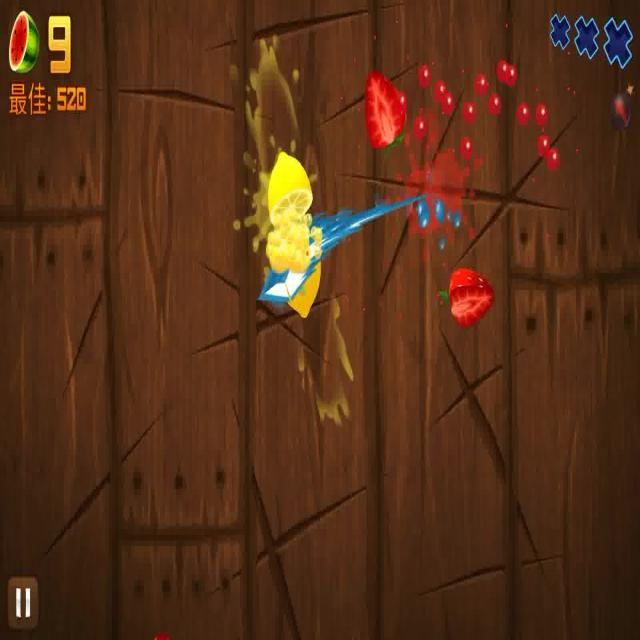fruit: (253, 240, 333, 326), (249, 146, 323, 225), (362, 59, 409, 163), (446, 260, 499, 336)
